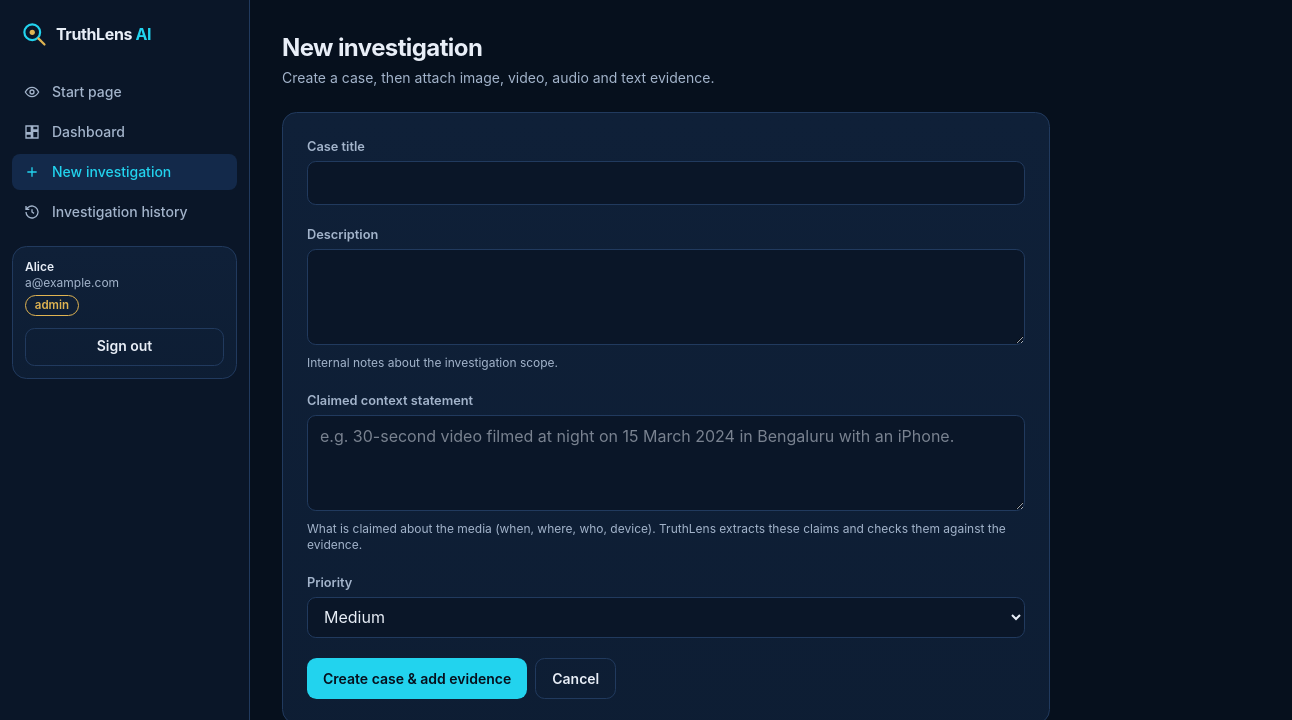
Test: Routing & auth › creates a case and navigates to upload
Click the button "Create case & add evidence": click(417, 678) [307, 658, 527, 699]
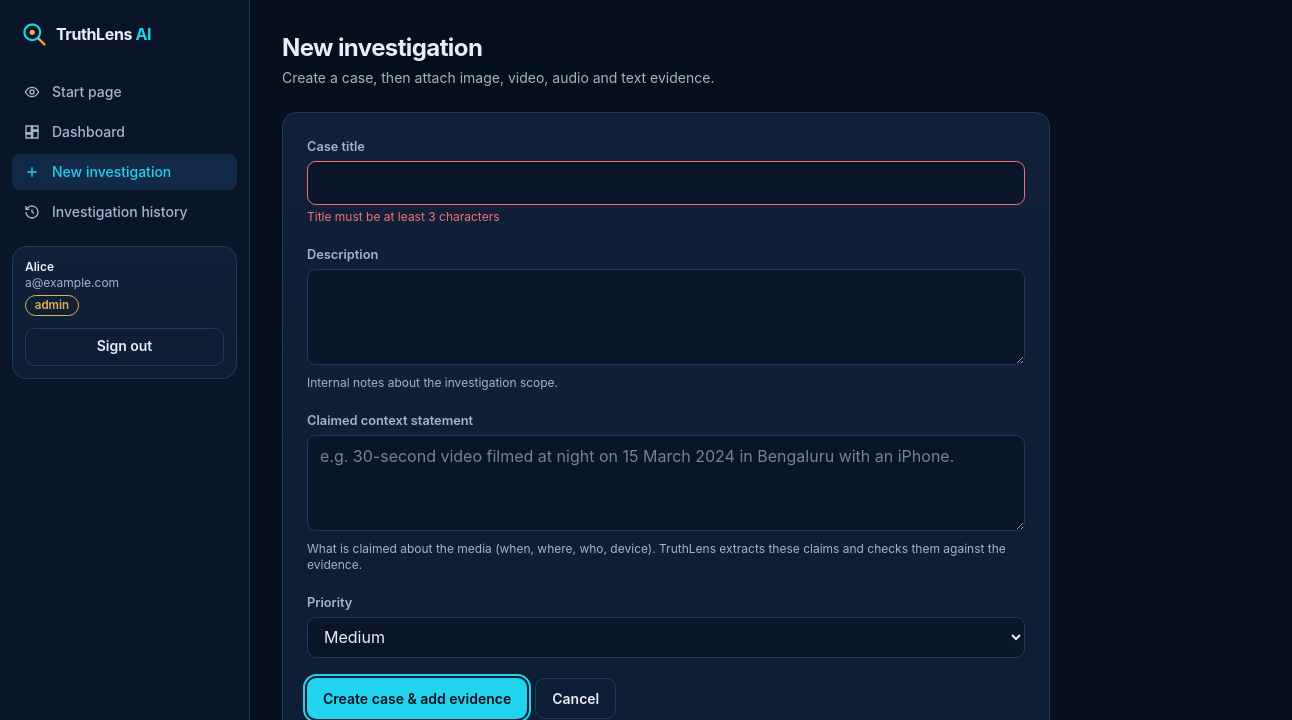
In the field labelled "Case title": (666, 183) [307, 161, 1025, 205], type "Viral clip"
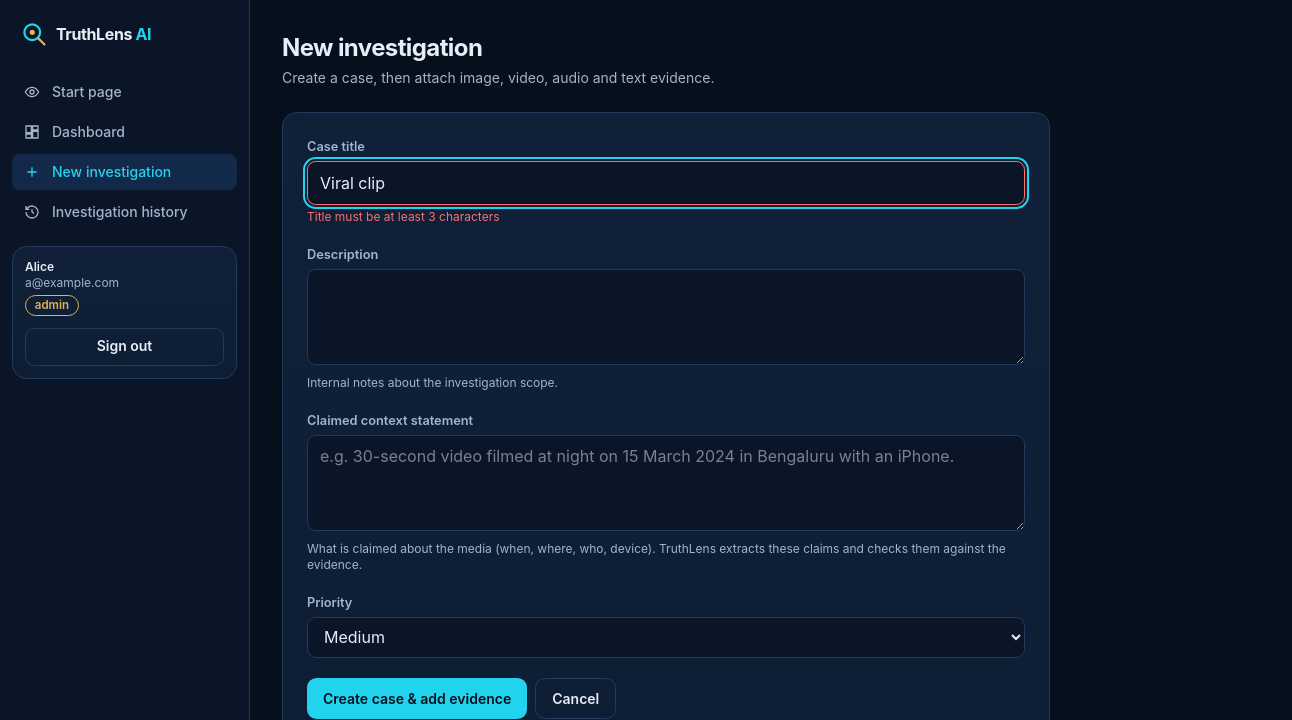
Click the button "Create case & add evidence": click(417, 698) [307, 678, 527, 719]
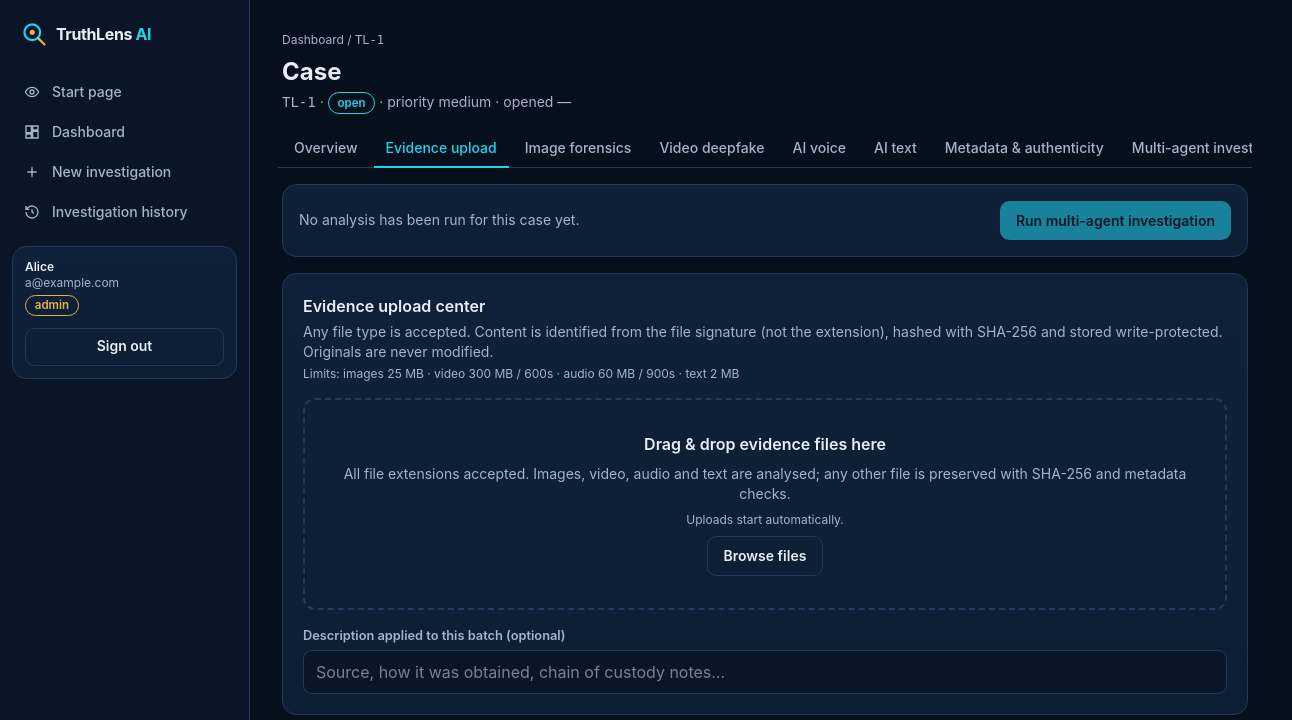
Result: the heading "Evidence upload center" is shown at [303, 296, 485, 316]
Result: the button "Run multi-agent investigation" is disabled at [1000, 201, 1231, 240]
